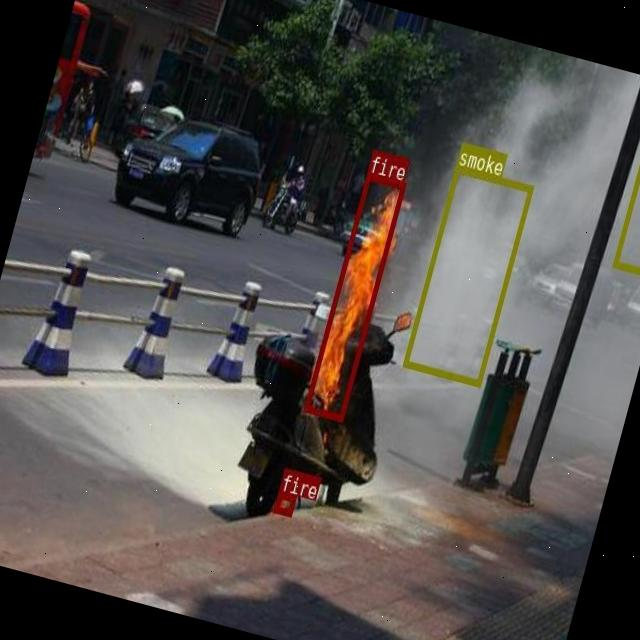fire: (304, 171, 406, 419), (272, 491, 296, 516)
smoke: (402, 164, 532, 386), (612, 99, 640, 275)
